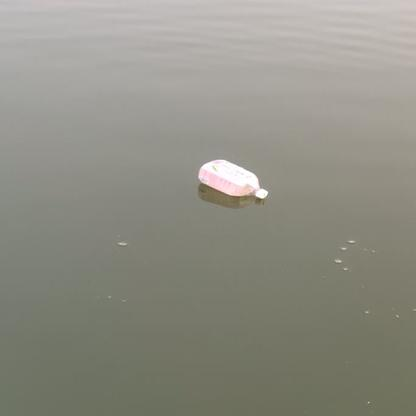plastic bottle: (198, 160, 268, 201)
